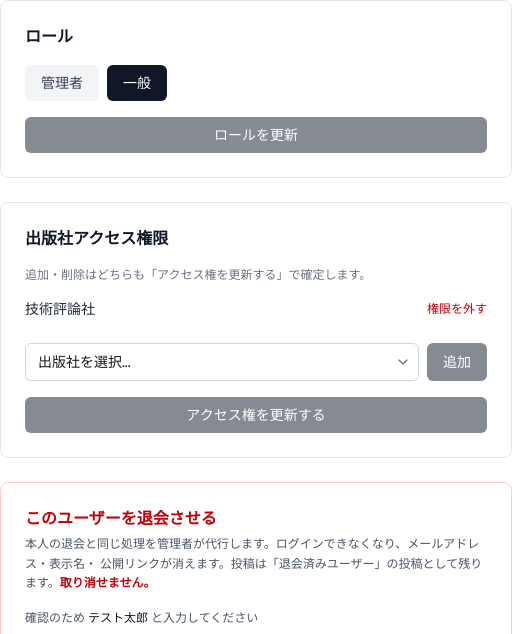
AdminUserEditor › 出版社アクセスの削除 › サーバーが失敗を返したら一覧から消さず、エラーを表示する
Click the button "権限を外す" at (457, 309), box [427,301,487,317]
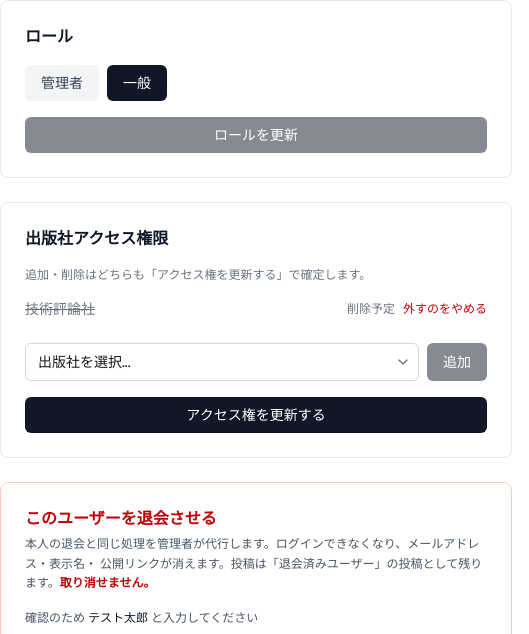
Click the button "アクセス権を更新する" at (256, 415), box [25,397,487,433]
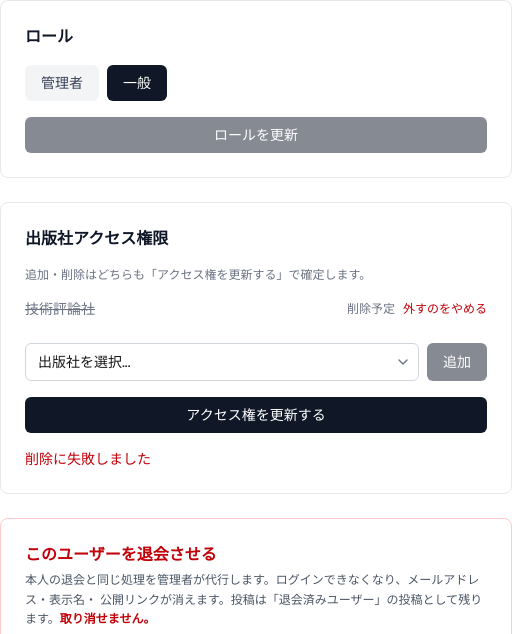
Expected: the text "技術評論社" is shown, [25,299,95,319]
Expected: the text "削除に失敗しました" is shown, [25,450,151,468]
